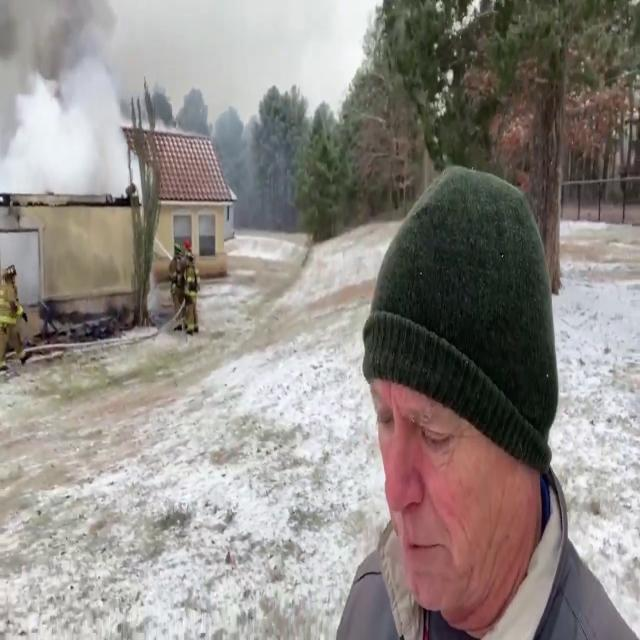Smoke: (0, 0, 136, 199)
